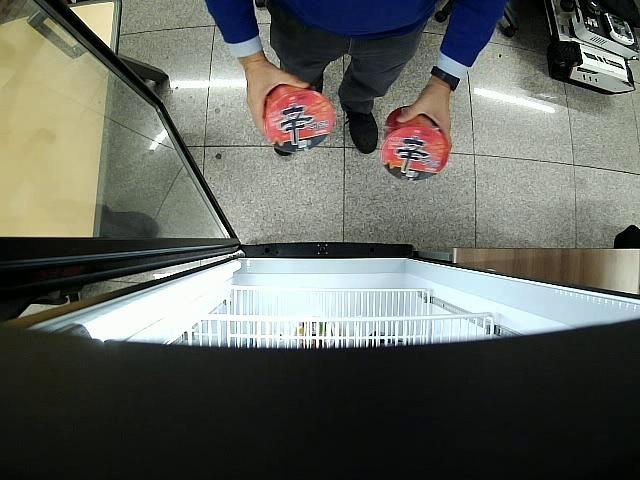01_ShinRamen_L: (381, 106, 450, 182), (264, 84, 336, 152)
